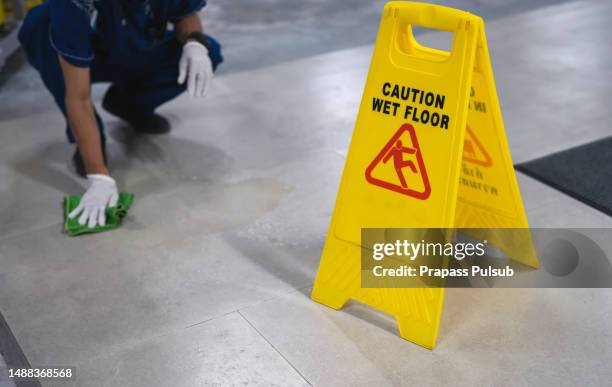wet caution sign: (286, 0, 570, 351)
